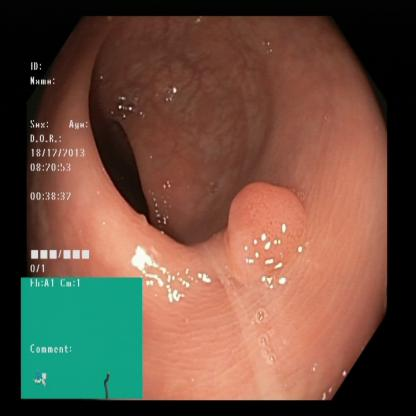Labels: (27, 60, 103, 278), (25, 278, 142, 399)
Polyps: (230, 154, 312, 283)
